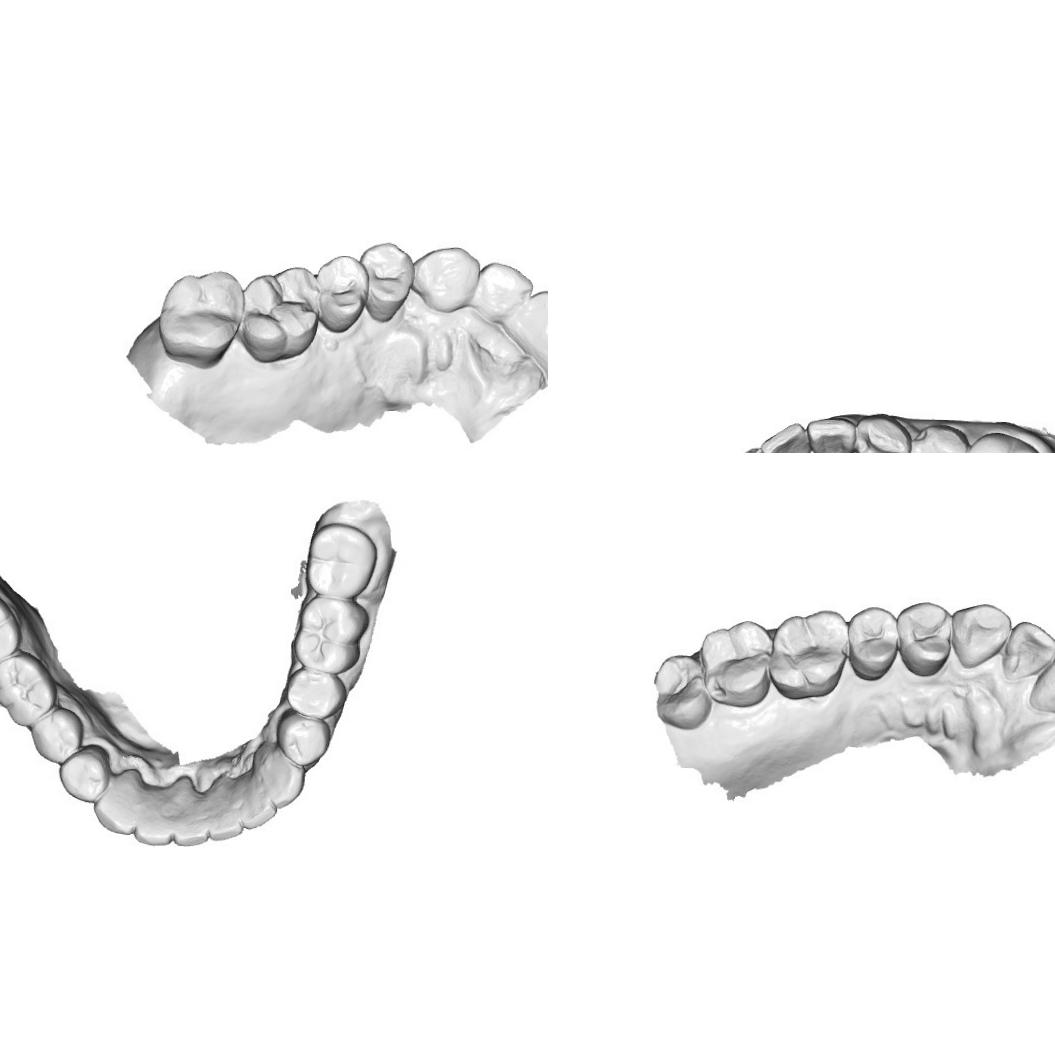canine: (412, 243, 482, 315), (946, 597, 1012, 672), (256, 744, 307, 808), (92, 771, 142, 836), (807, 415, 858, 453)
incisor: (472, 260, 534, 324), (1002, 617, 1054, 683), (508, 287, 548, 359), (202, 774, 244, 842), (130, 786, 176, 848), (170, 780, 210, 849), (234, 774, 278, 833), (1029, 639, 1055, 721), (762, 422, 818, 453)
molar: (155, 266, 247, 370), (238, 264, 325, 366), (768, 611, 850, 699), (692, 621, 776, 706), (290, 594, 370, 676), (302, 520, 376, 602), (651, 650, 720, 729), (0, 649, 58, 730), (0, 585, 24, 668), (957, 432, 1041, 453)
premolar: (894, 597, 957, 679), (358, 238, 416, 324), (314, 252, 371, 336), (841, 604, 901, 680), (55, 742, 111, 805), (284, 667, 348, 722), (272, 712, 334, 768), (26, 708, 82, 764), (858, 411, 910, 453), (912, 423, 964, 453)
